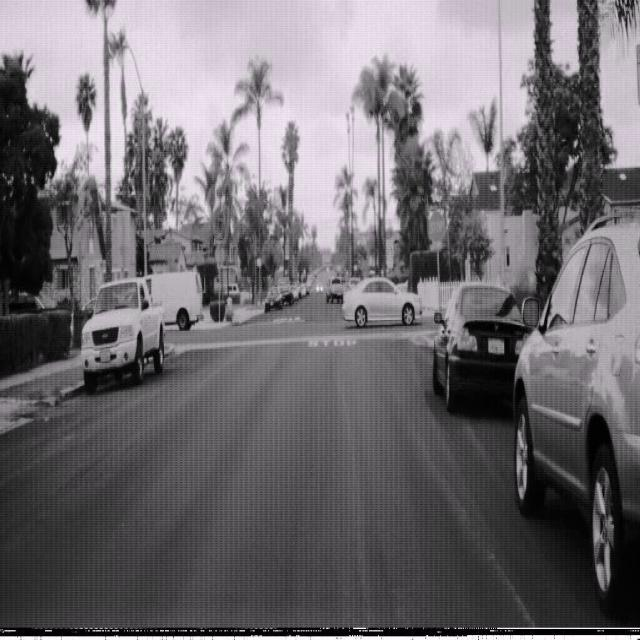stop: (428, 210, 446, 244)
